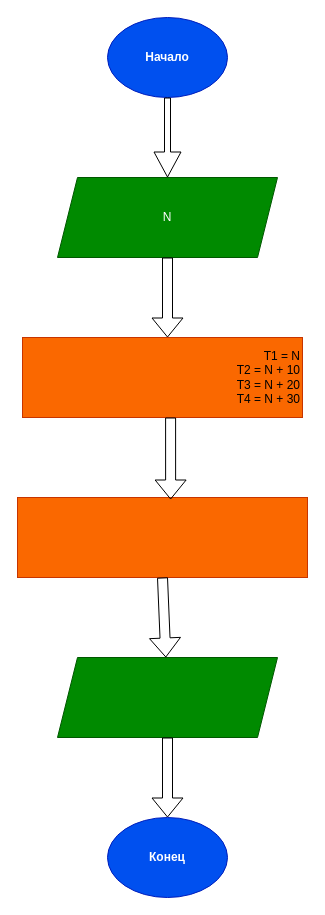
This 325x915 diagram has some shape labels left out. The centre of each missing label's shape, as x and y in pixels:
totaltime: (x=167, y=697)
Totaltime = T1 + T2 + T3 + T4: (x=162, y=537)
